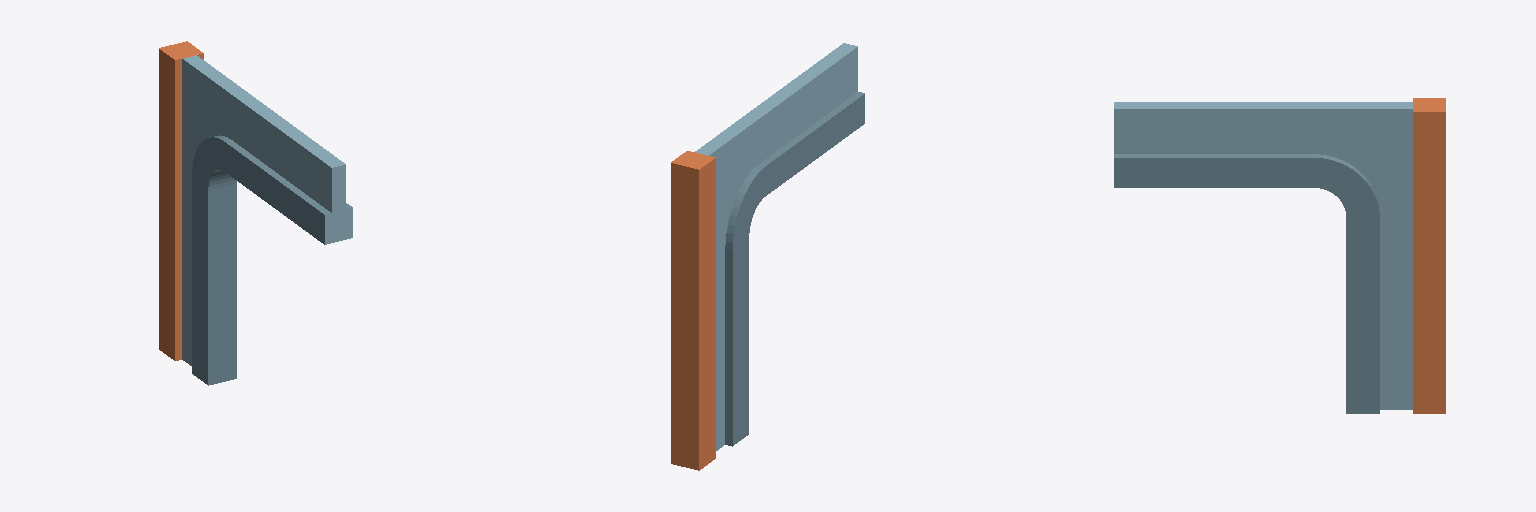
File: wallDoorwaySquareWideCurved.obj
3 views of the same model, side by side, from view 1: azimuth 30°, elevation 25°; view 2: azimuth 150°, elevation 25°; view 3: azimuth 270°, elevation 25° (orthographic).
Parts seen in each view (by area): view 1: wallDoorwaySquareWideCurved; view 2: wallDoorwaySquareWideCurved; view 3: wallDoorwaySquareWideCurved.
Boxes of the visible parts, <box> form: wallDoorwaySquareWideCurved: <box>159,41,352,385</box>; wallDoorwaySquareWideCurved: <box>671,43,864,470</box>; wallDoorwaySquareWideCurved: <box>1114,98,1445,413</box>.
Size of the model in its own units: 0.1 by 1 by 1.